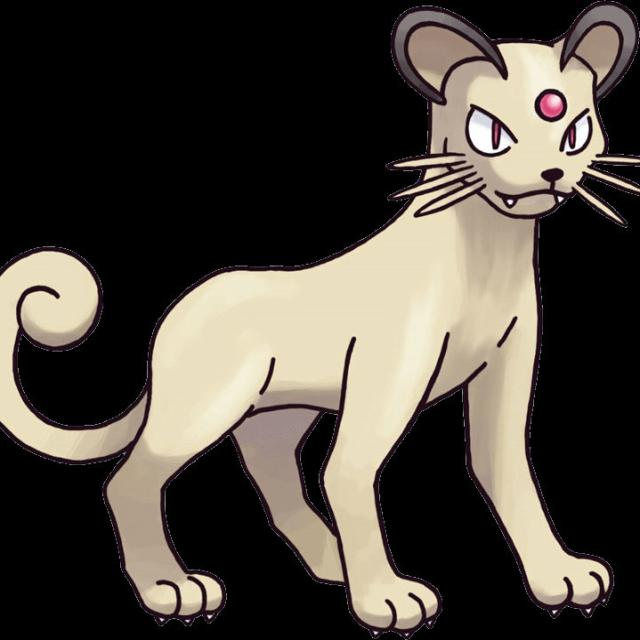Persian: (92, 17, 628, 637)
